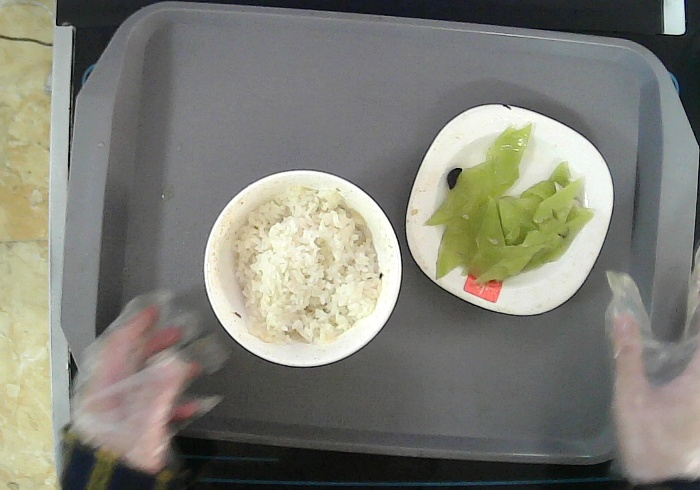SHKJ-Bai_Se_Si_Fang_Cai_Die: (404, 101, 617, 319)
SHKJ-Fan_Wan: (200, 167, 405, 370)
